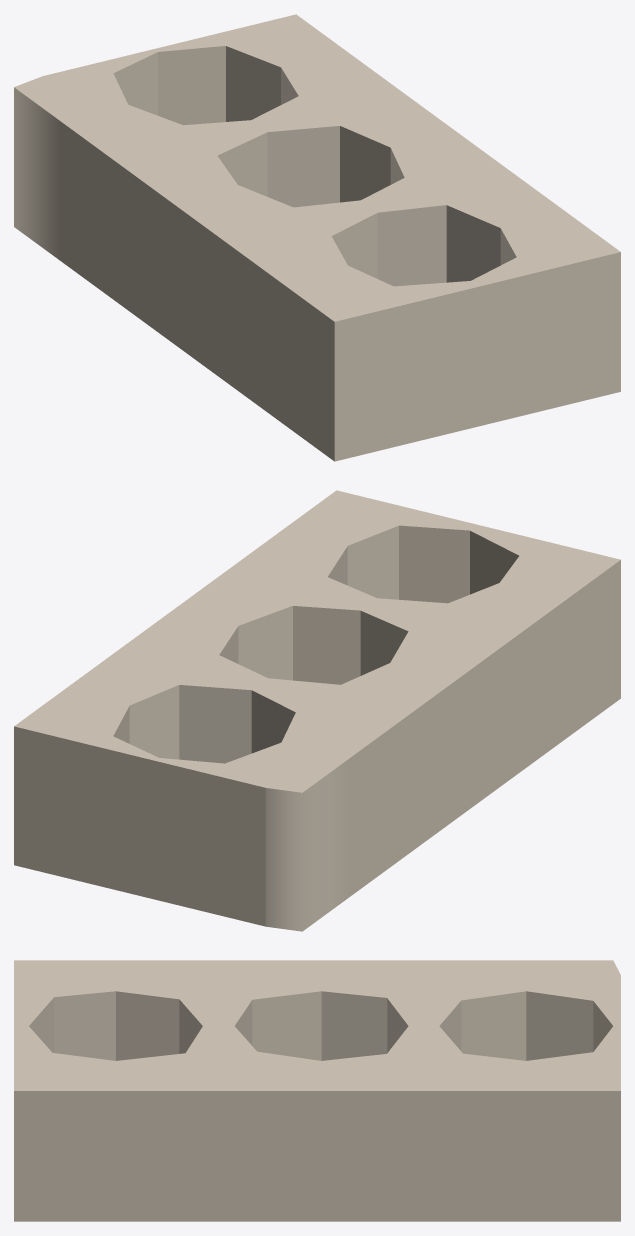
The model's file is WallPowerOutlet.FBX.
3 renders of one model, top to bottom at view 1: azimuth 30°, elevation 25°; view 2: azimuth 150°, elevation 25°; view 3: azimuth 270°, elevation 25°, orthographic. The views are drawn at different scales.
Parts seen in each view (by area): view 1: StrømpaddeVegg; view 2: StrømpaddeVegg; view 3: StrømpaddeVegg.
Part boxes in pixels (x1=…): StrømpaddeVegg: x1=14, y1=14, x2=620, y2=461; StrømpaddeVegg: x1=14, y1=490, x2=620, y2=931; StrømpaddeVegg: x1=14, y1=960, x2=620, y2=1221.
Size of the model in its own units: 6.43 by 3 by 12.63.
